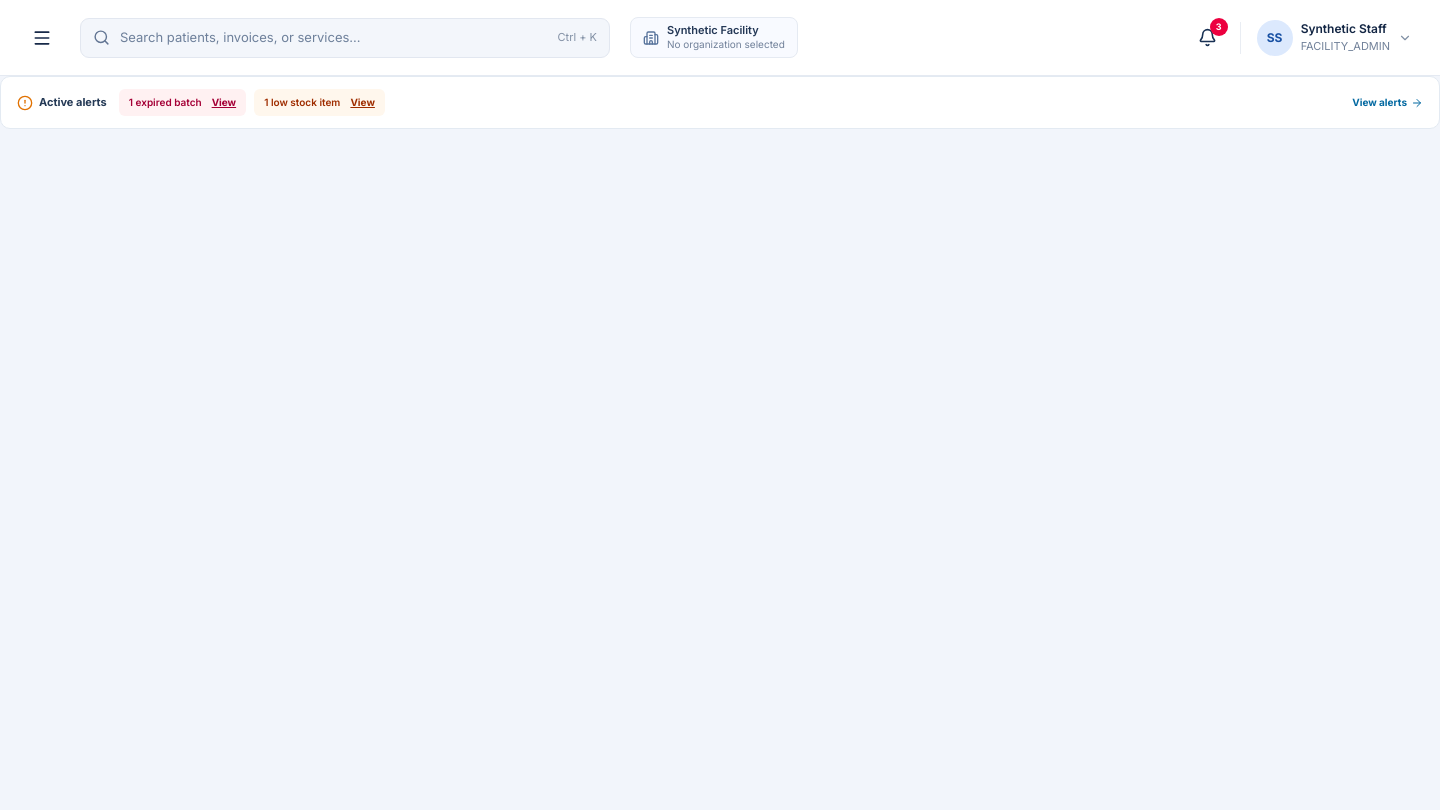
it: notification centre behavior › navigates only to a permitted enabled destination and closes the panel
The width and height of the screenshot is (1440, 810).
Click the button named "Notifications, 3 unread, critical alerts active" at [1208, 38], box [1188,18,1228,58]
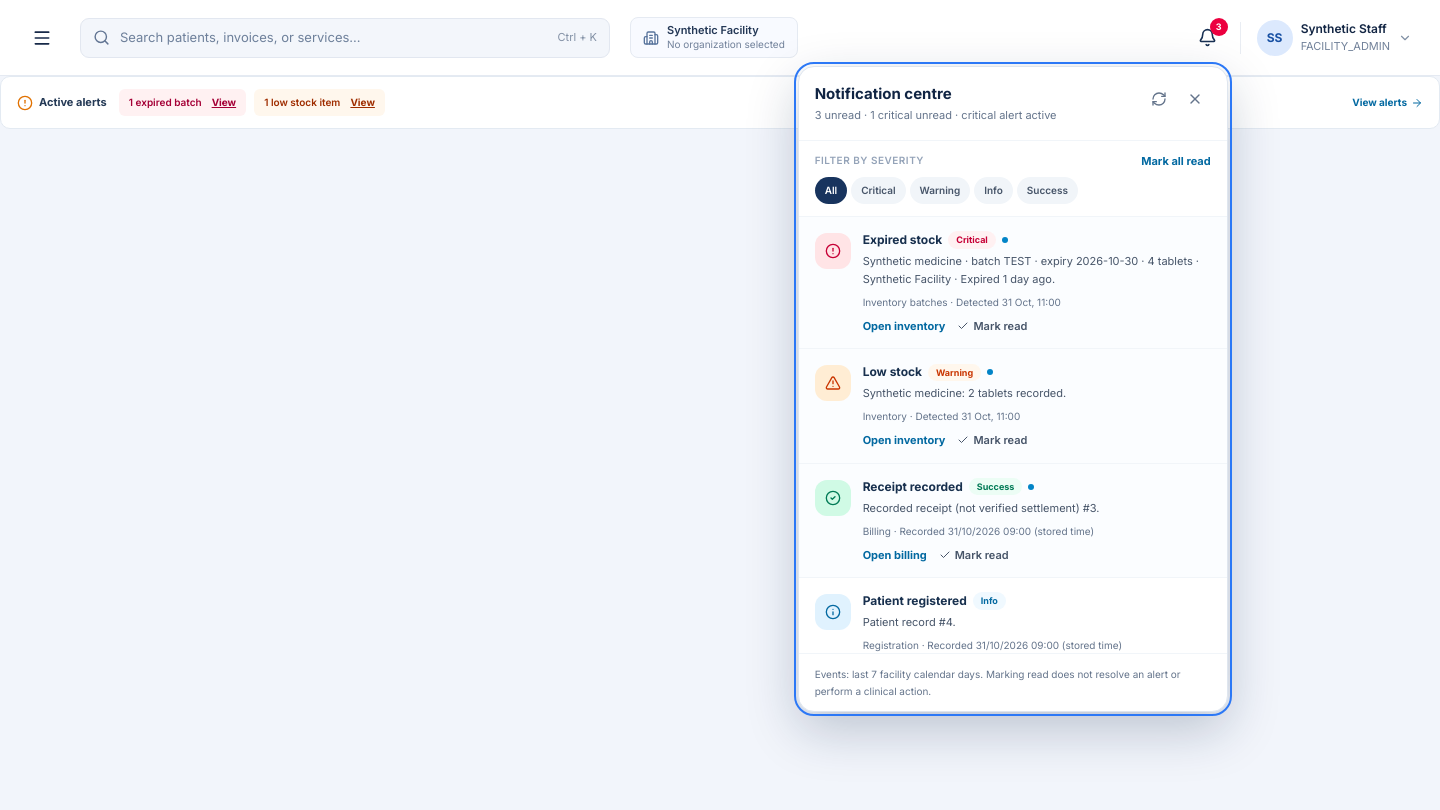
Click the button "Open inventory" below "Inventory batches" at [904, 326], box [863,318,945,334]
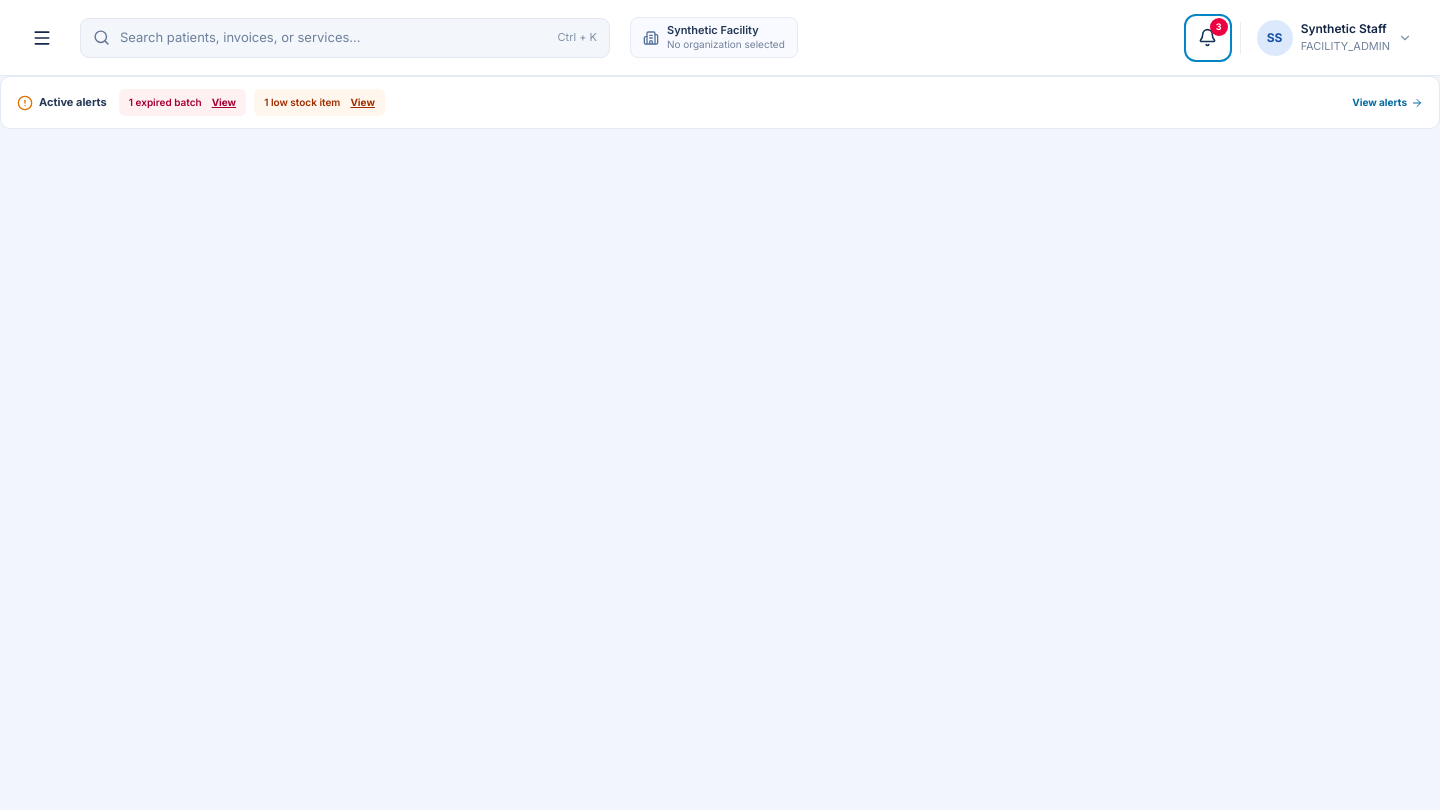
Expected: the heading "Notification centre" is gone
